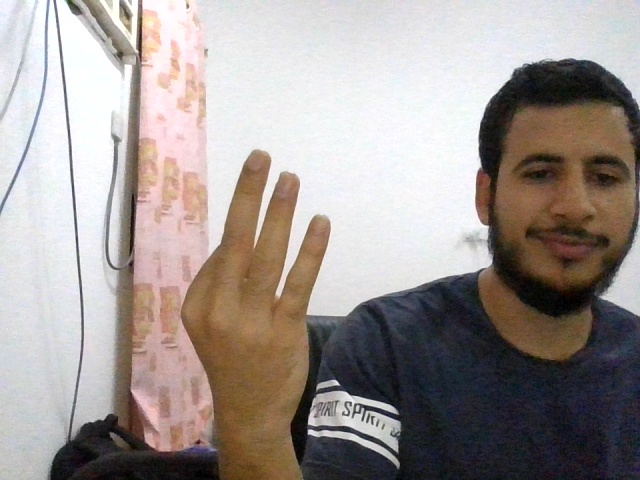Three: (181, 149, 333, 422)
